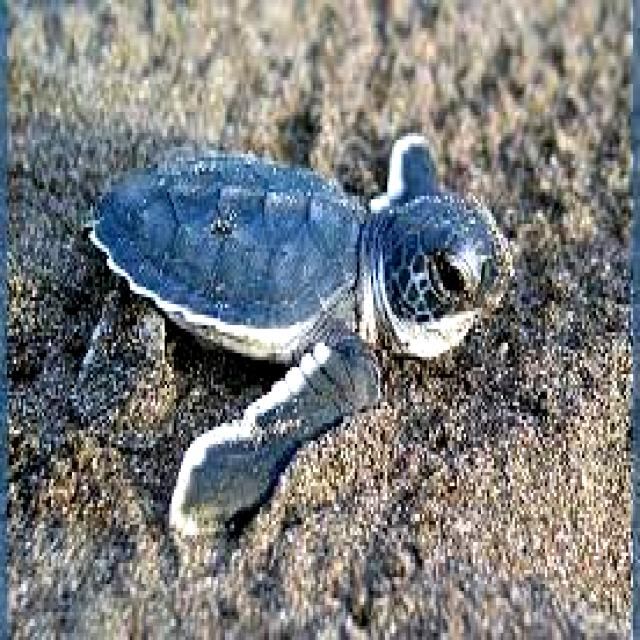Sea turtle: (56, 93, 544, 540)
